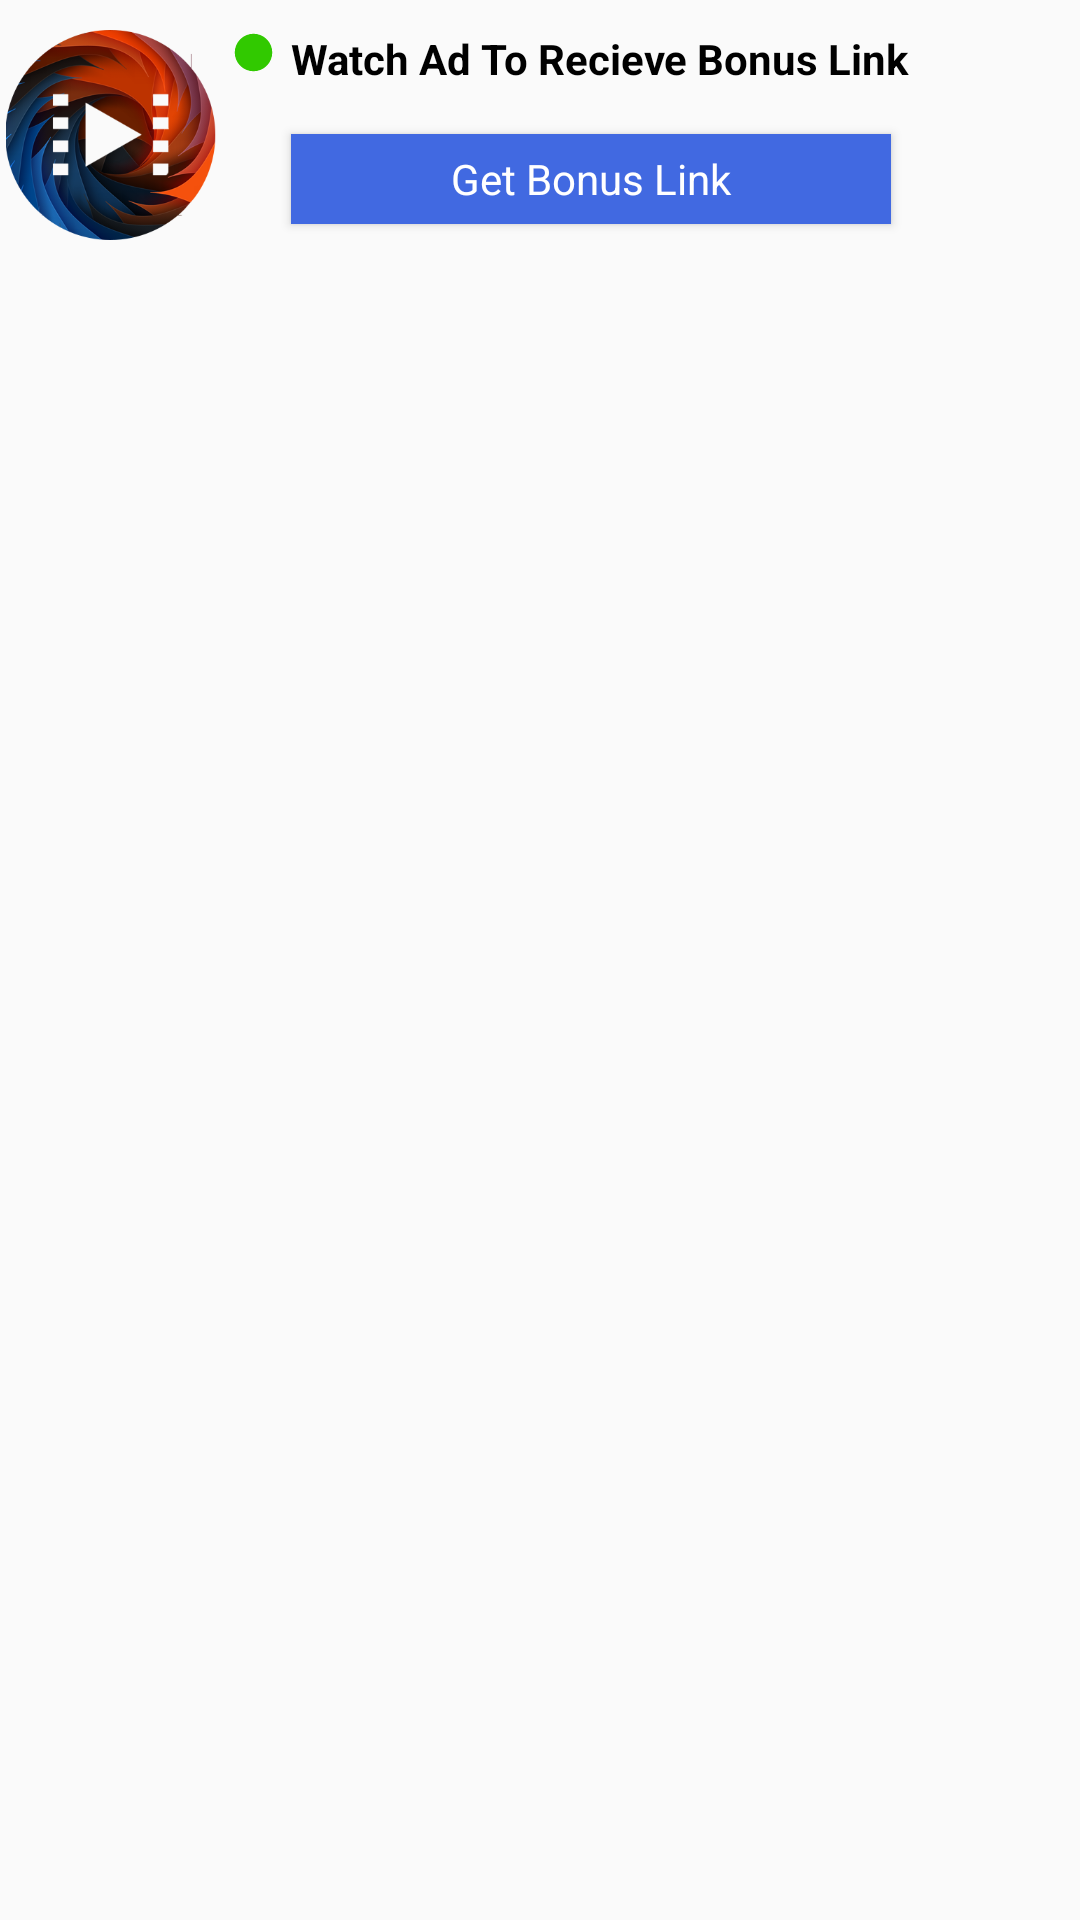

Locate icon controls on the screen. Image size 1080x1920, boxes as box=[x1, y1, x2, y2].
reward ad: box=[6, 30, 216, 240]
